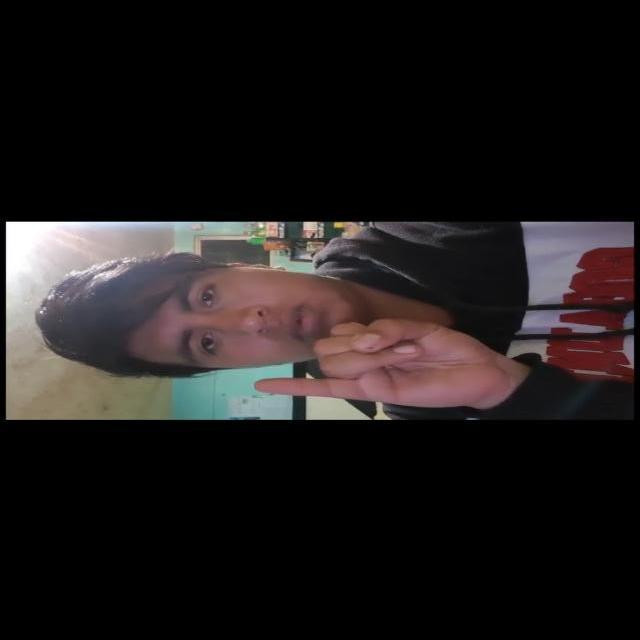I: (244, 312, 508, 410)
